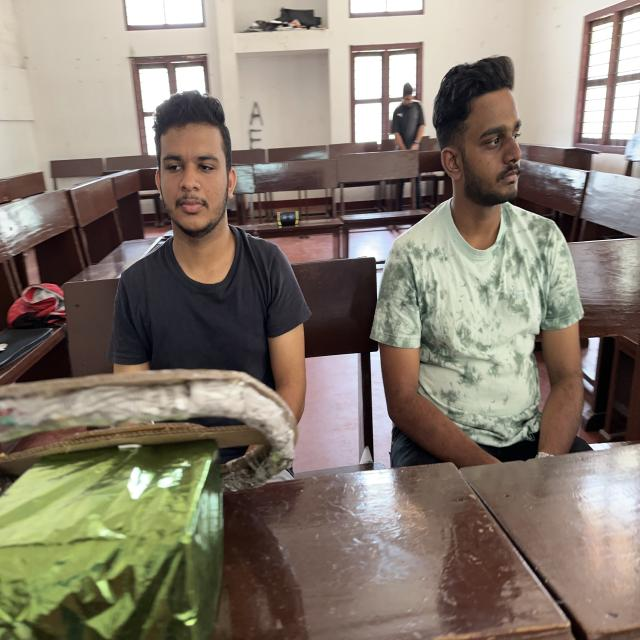no-seatbelt: (377, 209, 582, 486), (110, 238, 308, 494)
